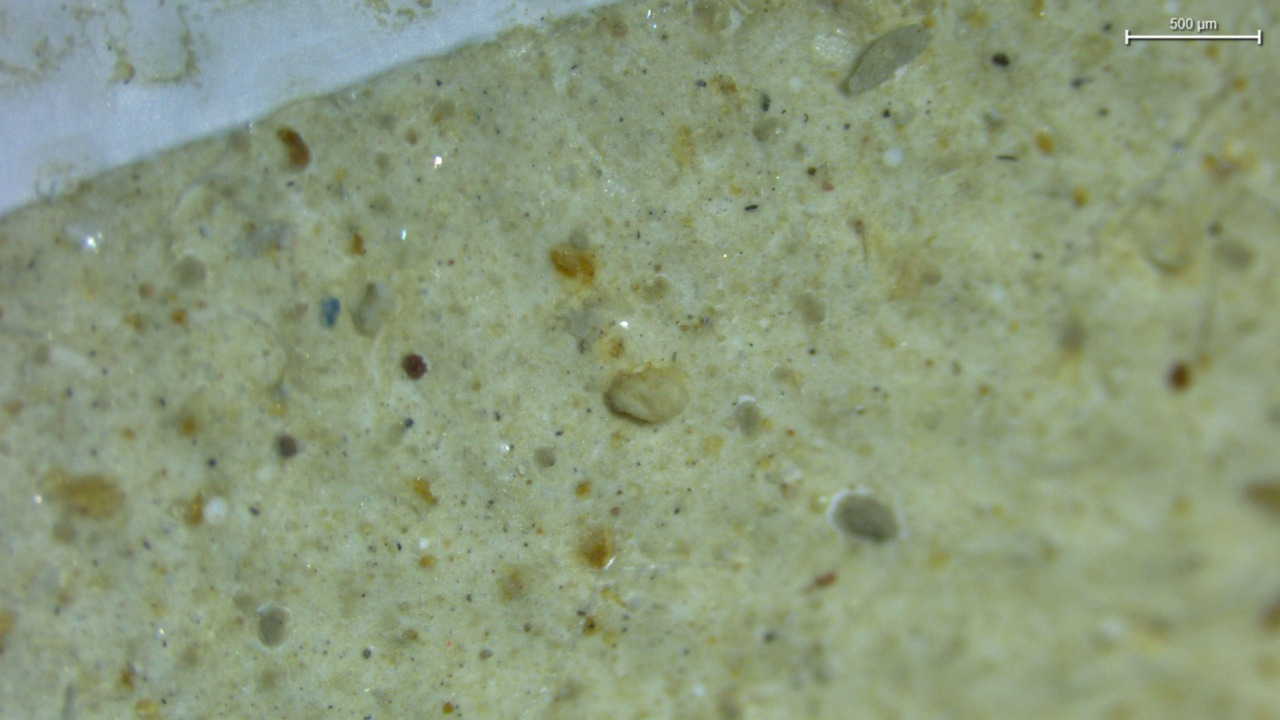microplastic_fragment: (842, 24, 930, 95), (607, 368, 690, 423)
